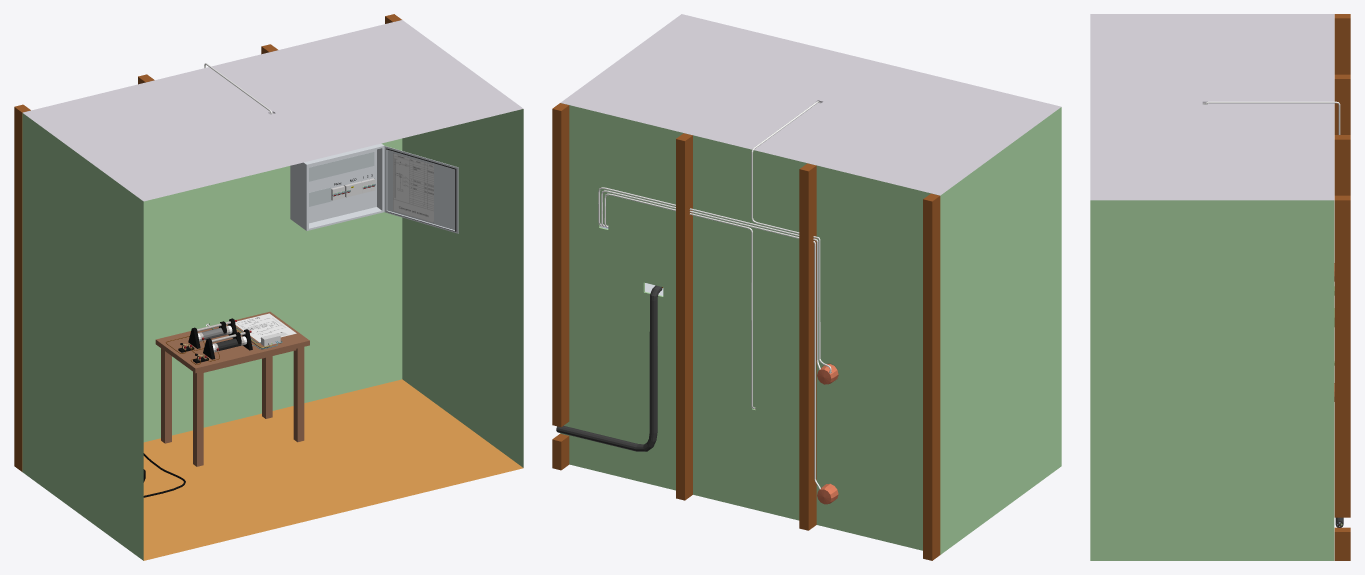
3 renders of one model, left to right at view 1: azimuth 30°, elevation 25°; view 2: azimuth 150°, elevation 25°; view 3: azimuth 270°, elevation 25°, orthographic.
Parts seen in each view (by area): view 1: shadfloorwall, shadwallhide, shadceiling, shadtable, modframing, shadconsumerunitcover, shadconsumerunitdoor, shadconsumerunit, modschematicsdoor, modschematicstable, shadrheostatLN, shadrheostatLPE; view 2: shadwallhide, shadceiling, shadfloorwall, modframing, modxpjouter, modaxmk, modjunctionbox; view 3: shadfloorwall, shadceiling, modframing, modxpjouter.
Boxes of the visible parts, <box> form: shadfloorwall: <box>22,109,523,560</box>; shadwallhide: <box>143,138,402,442</box>; shadceiling: <box>23,20,523,201</box>; shadtable: <box>155,311,309,466</box>; modframing: <box>14,14,401,471</box>; shadconsumerunitcover: <box>309,149,376,223</box>; shadconsumerunitdoor: <box>384,146,458,233</box>; shadconsumerunit: <box>290,143,384,230</box>; modschematicsdoor: <box>393,153,433,222</box>; modschematicstable: <box>235,313,296,342</box>; shadrheostatLN: <box>203,329,252,359</box>; shadrheostatLPE: <box>188,318,236,348</box>; shadwallhide: <box>560,103,936,550</box>; shadceiling: <box>560,14,1061,195</box>; shadfloorwall: <box>940,107,1061,554</box>; modframing: <box>552,103,940,560</box>; modxpjouter: <box>598,101,831,489</box>; modaxmk: <box>556,285,662,451</box>; modjunctionbox: <box>817,363,838,504</box>; shadfloorwall: <box>1090,200,1334,560</box>; shadceiling: <box>1090,14,1334,200</box>; modframing: <box>1334,14,1350,560</box>; modxpjouter: <box>1205,101,1340,134</box>.
Bounding box in the file's own units: 16.6 × 15.13 × 9.8.
Materials: 166 (2 with a texture image).
